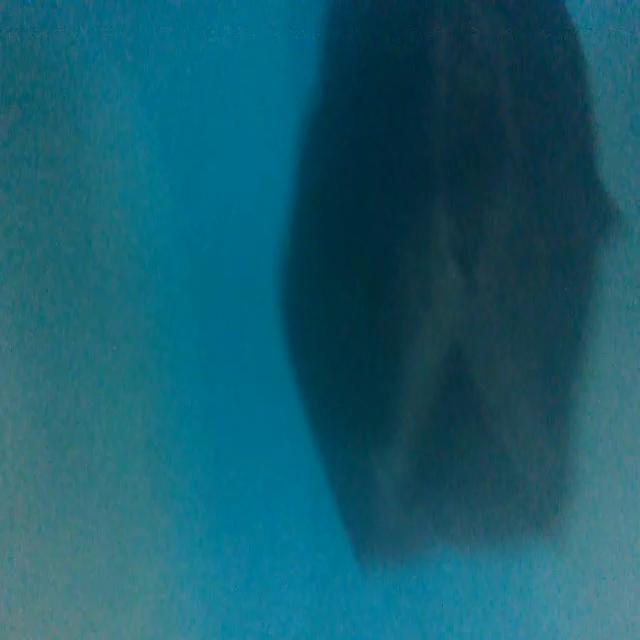plastic bags: (281, 0, 623, 575)
